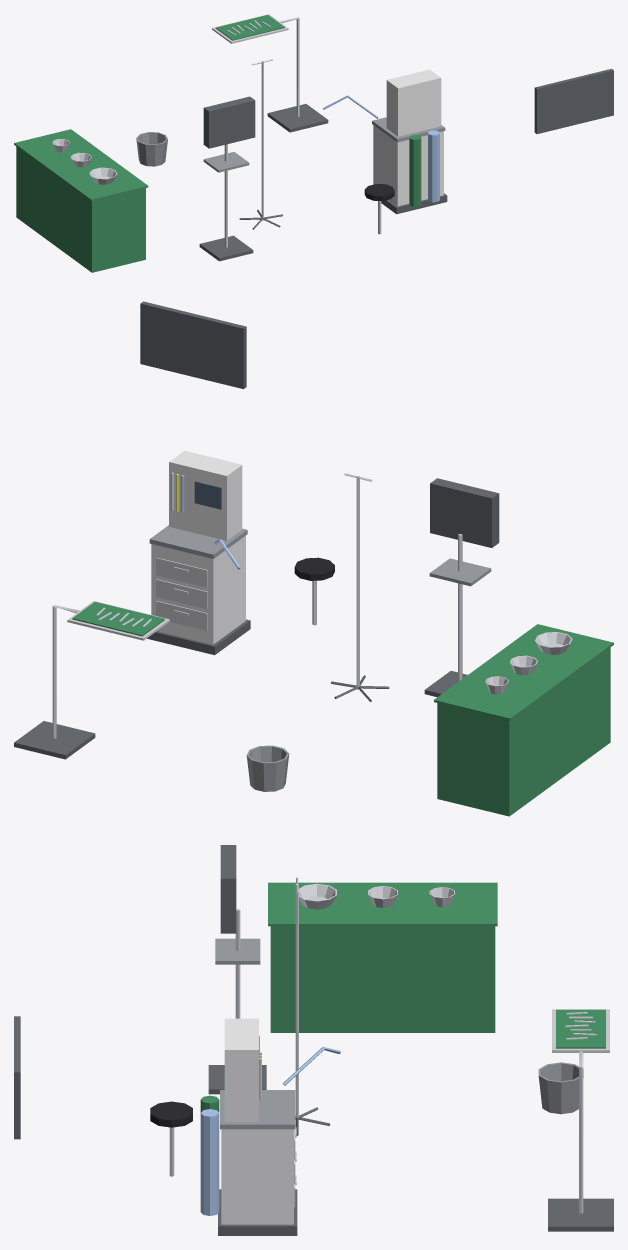
Rendered from TheatreKit.obj.
3 views of the same model, one above another, from view 1: azimuth 30°, elevation 25°; view 2: azimuth 150°, elevation 25°; view 3: azimuth 270°, elevation 25° (orthographic). The views are drawn at different scales.
Parts seen in each view (by area): view 1: TheatreKit; view 2: TheatreKit; view 3: TheatreKit.
Part boxes in pixels (<box>): TheatreKit: <box>14,14,613,272</box>; TheatreKit: <box>14,301,613,816</box>; TheatreKit: <box>14,845,613,1235</box>.
Bounding box in the file's own units: 5.67 × 2 × 4.54.
Materials: 1 (1 with a texture image).
